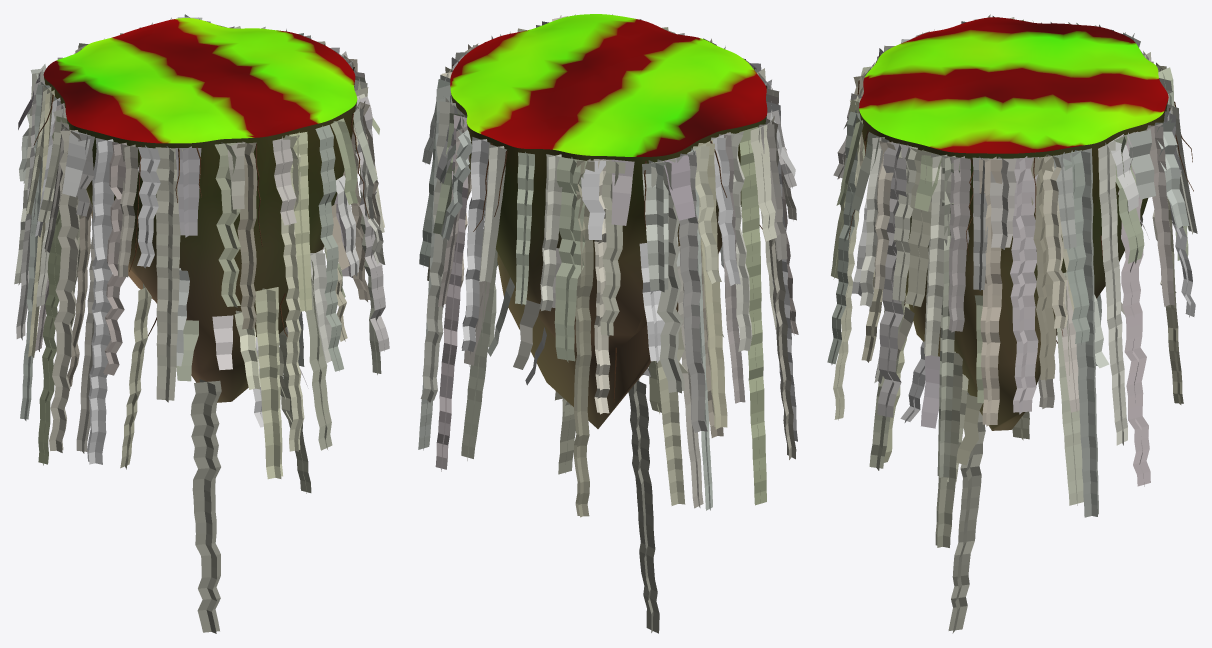
Rendered from SM_H01_Floater06.fbx.
3 renders of one model, left to right at view 1: azimuth 30°, elevation 25°; view 2: azimuth 150°, elevation 25°; view 3: azimuth 270°, elevation 25°, orthographic. The views are drawn at different scales.
Visible parts, largest first — view 1: SM_H01_Floater06_Ivy, SM_H01_Floater06; view 2: SM_H01_Floater06_Ivy, SM_H01_Floater06; view 3: SM_H01_Floater06_Ivy, SM_H01_Floater06.
Part boxes in pixels (x1,y1,x2,y2): SM_H01_Floater06_Ivy: [14, 14, 389, 633]; SM_H01_Floater06: [43, 18, 357, 402]; SM_H01_Floater06_Ivy: [418, 14, 798, 633]; SM_H01_Floater06: [450, 14, 767, 428]; SM_H01_Floater06_Ivy: [827, 14, 1197, 633]; SM_H01_Floater06: [859, 17, 1168, 430].
Bounding box in the file's own units: 29.41 × 46.54 × 27.72.
